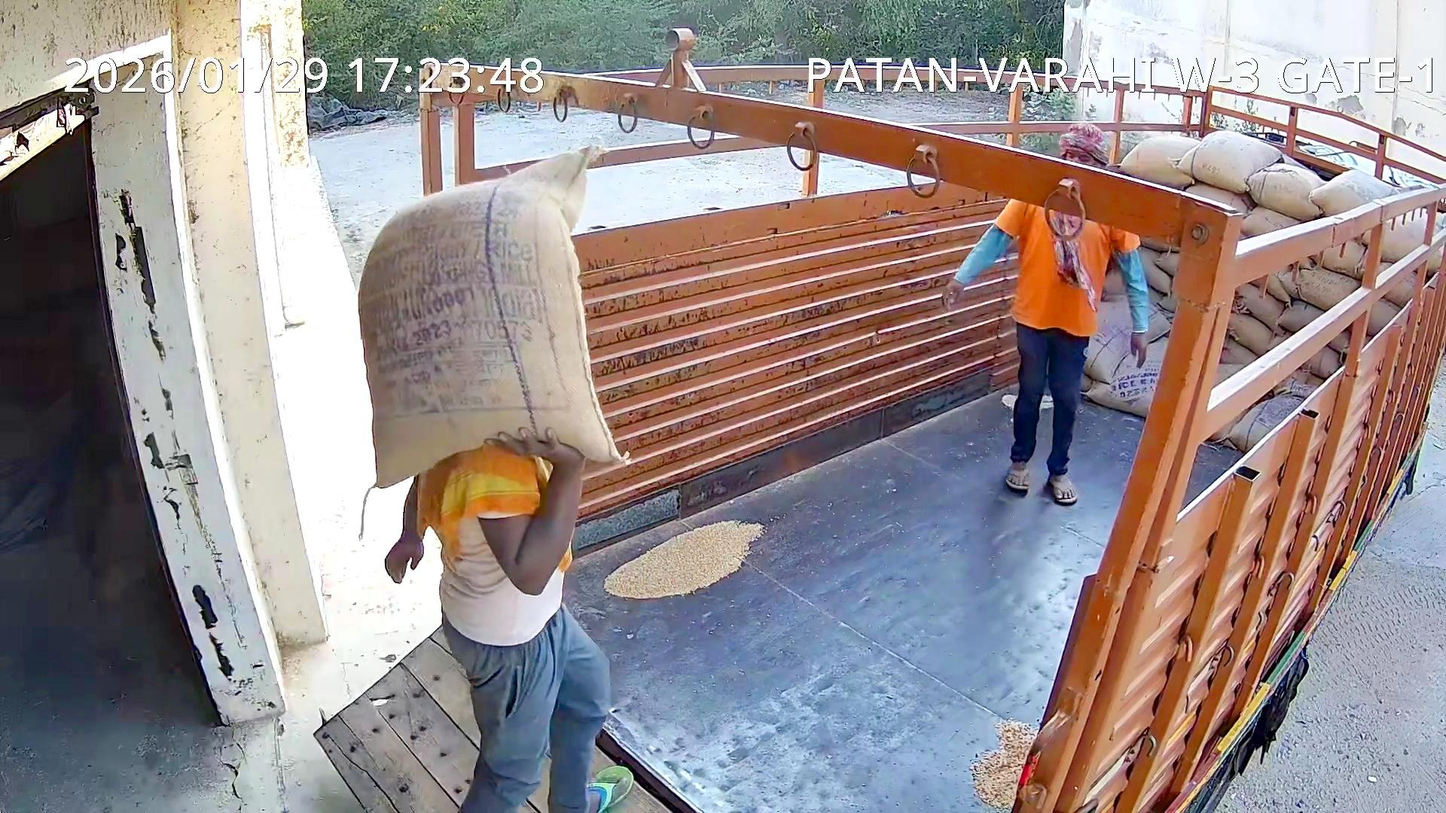Sack: (358, 147, 627, 487)
